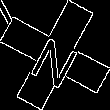N_NE: (26, 24, 84, 86)
